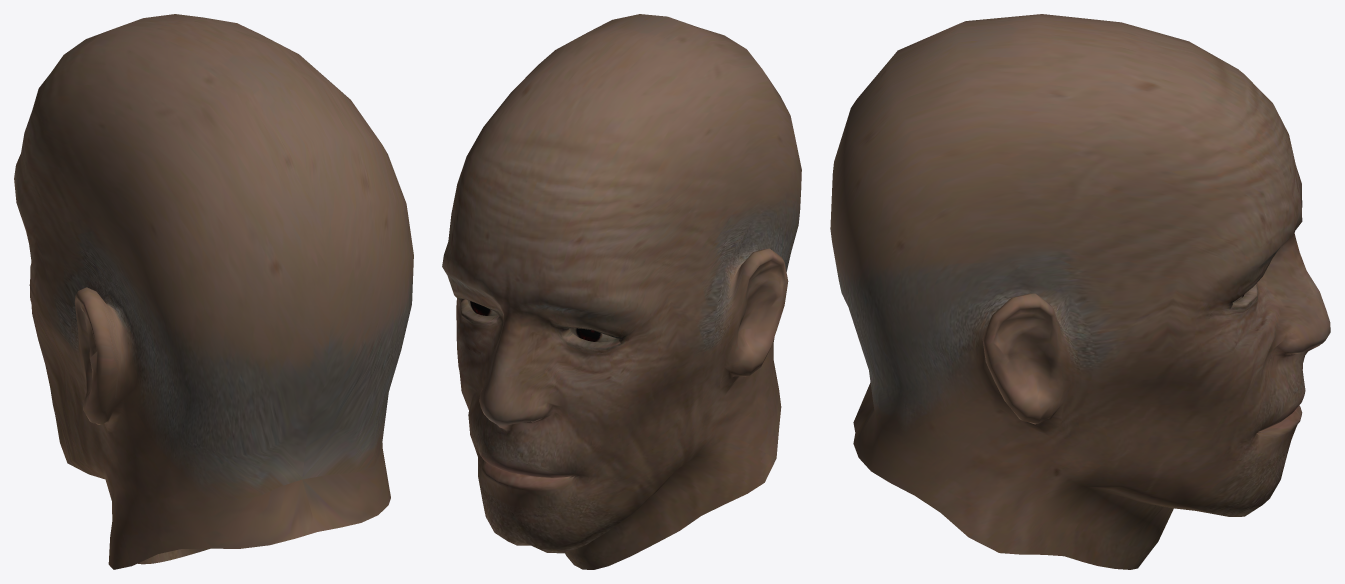
Rendered from G3_Head_Slave_Myrtana_Animated_02_S13.obj.
The picture shows the model from 3 angles, left to right: view 1: azimuth 30°, elevation 25°; view 2: azimuth 150°, elevation 25°; view 3: azimuth 270°, elevation 25°; orthographic projection. The views are drawn at different scales.
Parts seen in each view (by area): view 1: G3_Animation_Head_Slave_Main_02; view 2: G3_Animation_Head_Slave_Main_02; view 3: G3_Animation_Head_Slave_Main_02.
Boxes of the visible parts, box(x1,y1,x2,y2) form: G3_Animation_Head_Slave_Main_02: box(14, 14, 413, 569); G3_Animation_Head_Slave_Main_02: box(442, 14, 801, 569); G3_Animation_Head_Slave_Main_02: box(830, 14, 1330, 569).
Bounding box in the file's own units: 0.1382 × 0.2411 × 0.2036.
